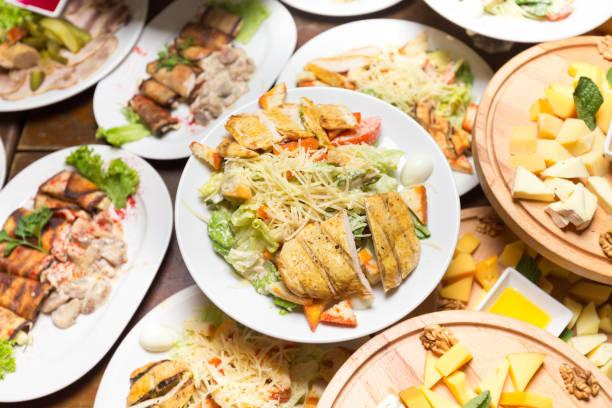Braised Crucian Carp: (174, 86, 455, 342), (2, 142, 174, 406), (472, 36, 610, 281), (92, 0, 293, 162)
